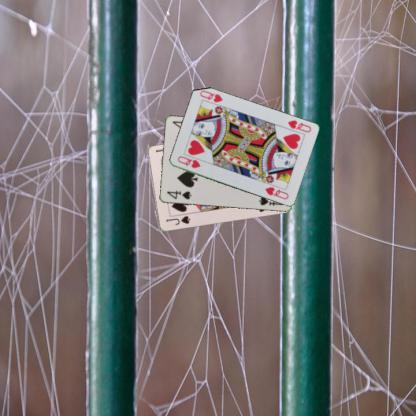4s: (164, 188, 192, 201)
Js: (164, 213, 191, 227)
Qh: (174, 153, 202, 169), (285, 118, 312, 134)
